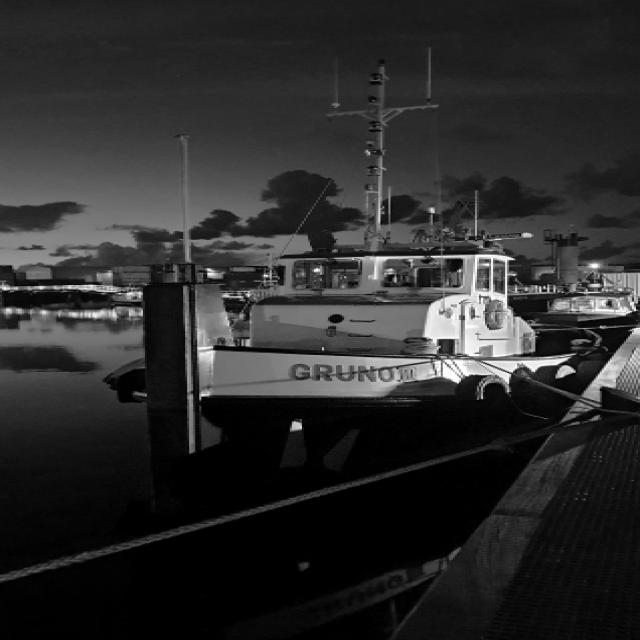tugboat: (100, 45, 611, 483)
